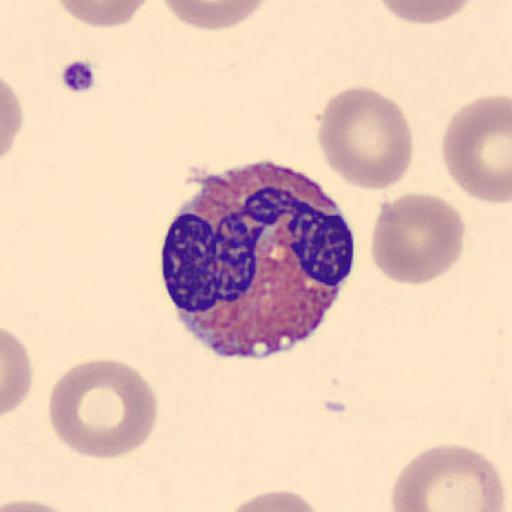RBC: (46, 357, 159, 461), (316, 84, 414, 192), (370, 190, 466, 286), (389, 441, 507, 512), (441, 93, 512, 205), (159, 0, 268, 32), (54, 0, 154, 30), (1, 325, 33, 418), (219, 489, 331, 512), (376, 0, 476, 24), (0, 75, 23, 168), (0, 498, 84, 512)
WBC: (160, 158, 356, 360)
